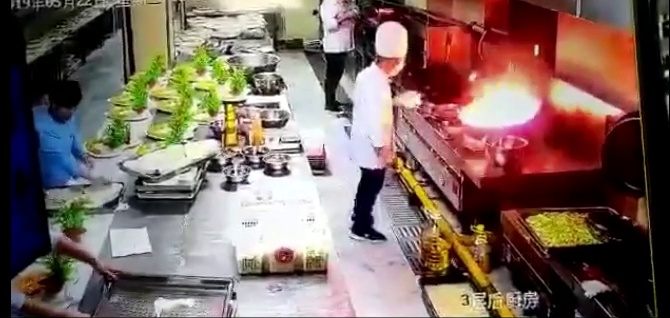fire: (464, 70, 536, 127)
